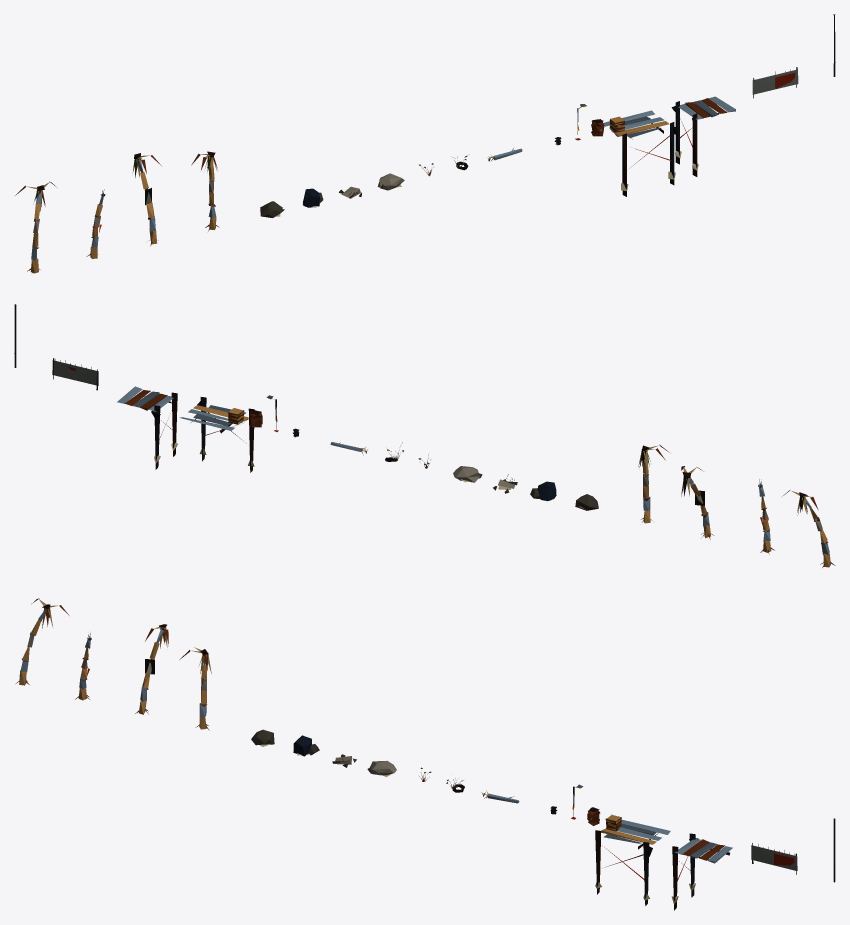
The model's file is tb_coast_kit.three-web-toon.lod25.glb.
3 views of the same model, one above another, from view 1: azimuth 30°, elevation 25°; view 2: azimuth 150°, elevation 25°; view 3: azimuth 330°, elevation 25° (orthographic).
Parts seen in each view (by area): view 1: pier_section_lod, finger_section_lod, dead_palm_c_lod, fence_panel_lod, dead_palm_a_lod, dead_palm_d_lod; view 2: finger_section_lod, pier_section_lod, fence_panel_lod, dead_palm_c_lod, dead_palm_a_lod, dead_palm_d_lod; view 3: pier_section_lod, finger_section_lod, dead_palm_c_lod, fence_panel_lod, dead_palm_a_lod, dead_palm_d_lod.
Part boxes in pixels (x1,y1,x2,y2): pier_section_lod: (603,110,677,196); finger_section_lod: (671,96,735,176); dead_palm_c_lod: (132,153,161,246); fence_panel_lod: (752,67,798,98); dead_palm_a_lod: (15,181,55,273); dead_palm_d_lod: (191,151,219,231); finger_section_lod: (117,386,177,469); pier_section_lod: (179,397,254,472); fence_panel_lod: (52,358,98,390); dead_palm_c_lod: (681,466,713,539); dead_palm_a_lod: (783,490,835,567); dead_palm_d_lod: (638,444,669,523); pier_section_lod: (595,819,670,905); finger_section_lod: (671,833,732,910); dead_palm_c_lod: (135,624,168,714); fence_panel_lod: (751,843,797,874); dead_palm_a_lod: (16,598,69,685); dead_palm_d_lod: (179,647,211,730).
Size of the model in its own units: 81.75 by 12.86 by 6.26.
